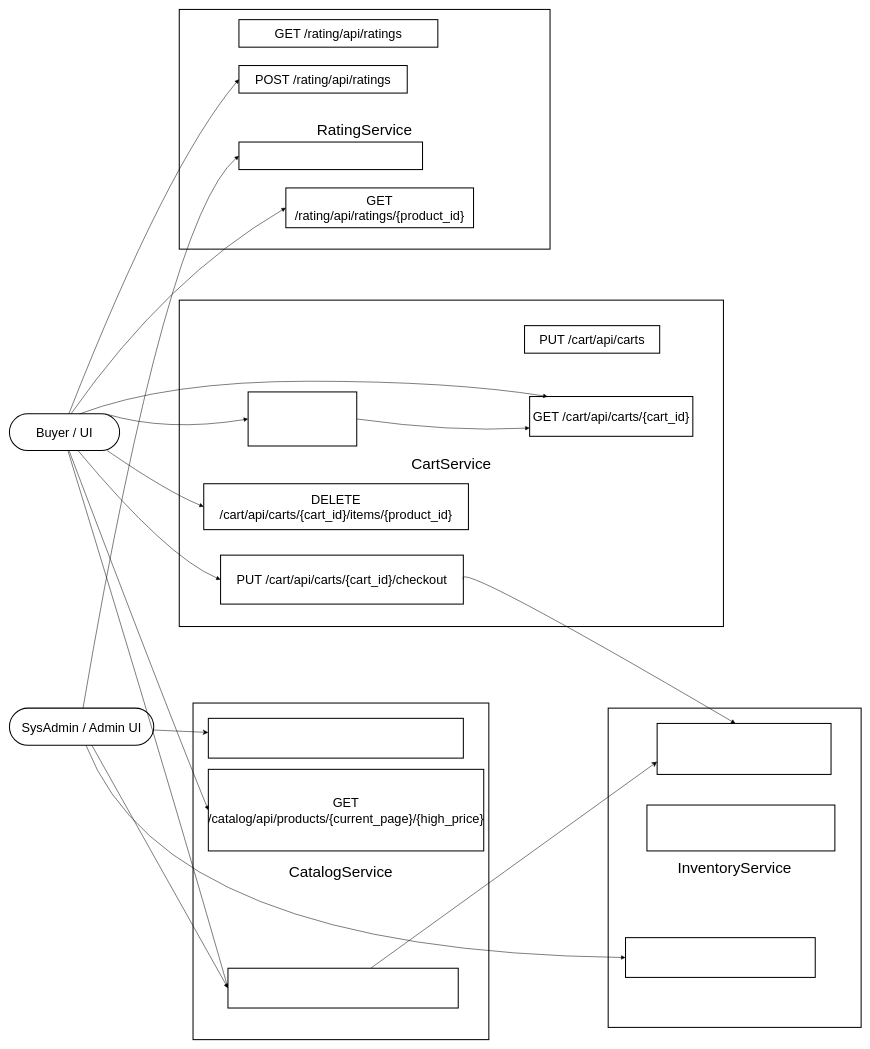
Some shapes in this 870 by 1049 pixel diagram are drawn without their labels. Here are the shapes that lost their labels. From the top down, the centre of each, then its label:
the point at 330,155: PUT /rating/api/ratings
the point at 302,418: POST /cart/api/carts
the point at 336,738: POST /catalog/api/products
the point at 743,749: GET /inventory/api/availabilities
the point at 740,827: GET /inventory/api/availabilities/{id}
the point at 720,957: POST /inventory/api/inventory/migrate
the point at 342,987: GET /catalog/api/products/{product_id}
